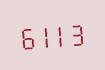one: (35, 21, 51, 50), (52, 20, 68, 48)
six: (18, 22, 34, 51)
three: (69, 18, 85, 47)
